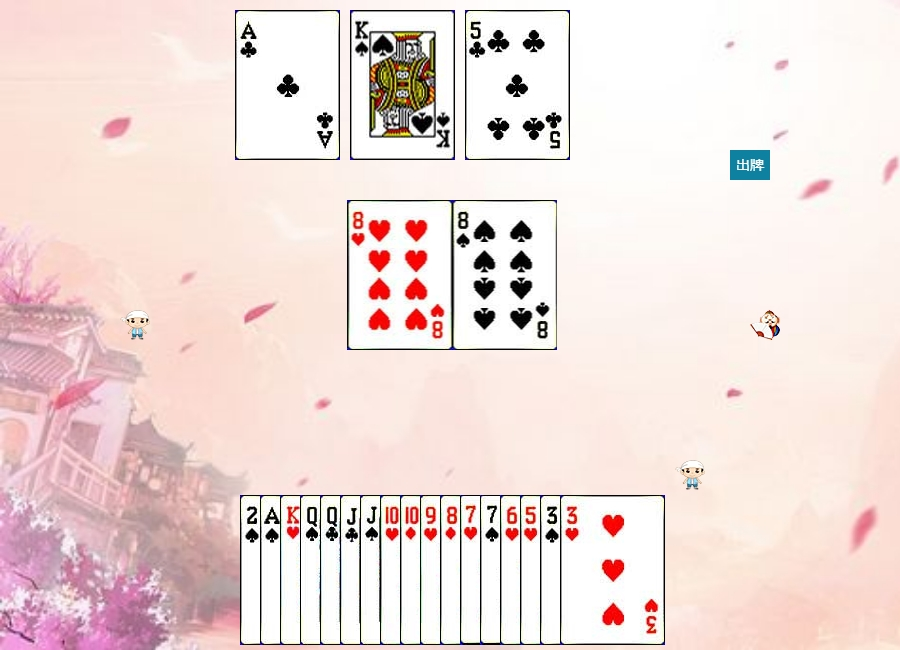10~1: (400, 495, 505, 645)
10~3: (380, 495, 485, 645)
11~2: (340, 495, 445, 645)
11~4: (360, 495, 465, 645)
12~2: (320, 495, 425, 645)
12~4: (300, 495, 405, 645)
13~3: (280, 495, 385, 645)
13~4: (350, 10, 455, 160)
14~2: (235, 10, 340, 160)
14~4: (260, 495, 365, 645)
15~4: (240, 495, 345, 645)
3~3: (560, 495, 665, 645)
3~4: (540, 495, 645, 645)
5~2: (465, 10, 570, 160)
5~3: (520, 495, 625, 645)
6~3: (500, 495, 605, 645)
7~3: (460, 495, 565, 645)
7~4: (480, 495, 585, 645)
8~1: (440, 495, 545, 645)
8~3: (348, 200, 453, 350)
8~4: (453, 200, 558, 350)
9~3: (420, 495, 525, 645)
